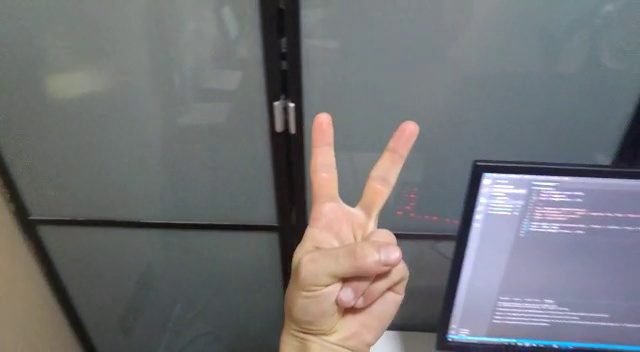Peace: (273, 111, 428, 350)
